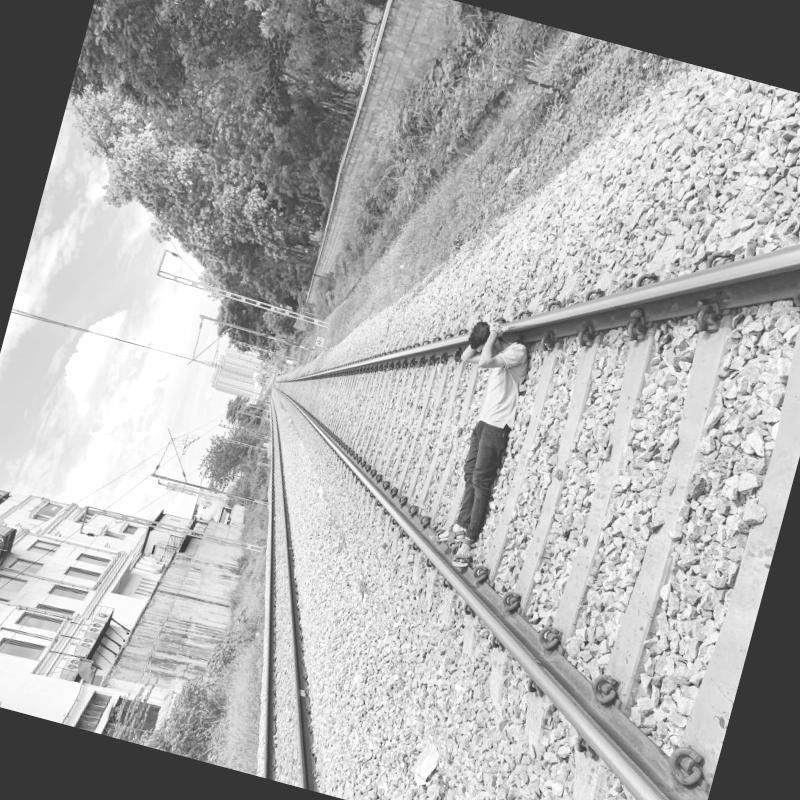sleeping: (404, 303, 540, 576)
